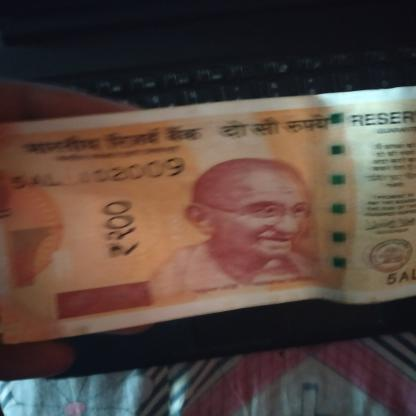New200Front: (2, 113, 416, 318)
